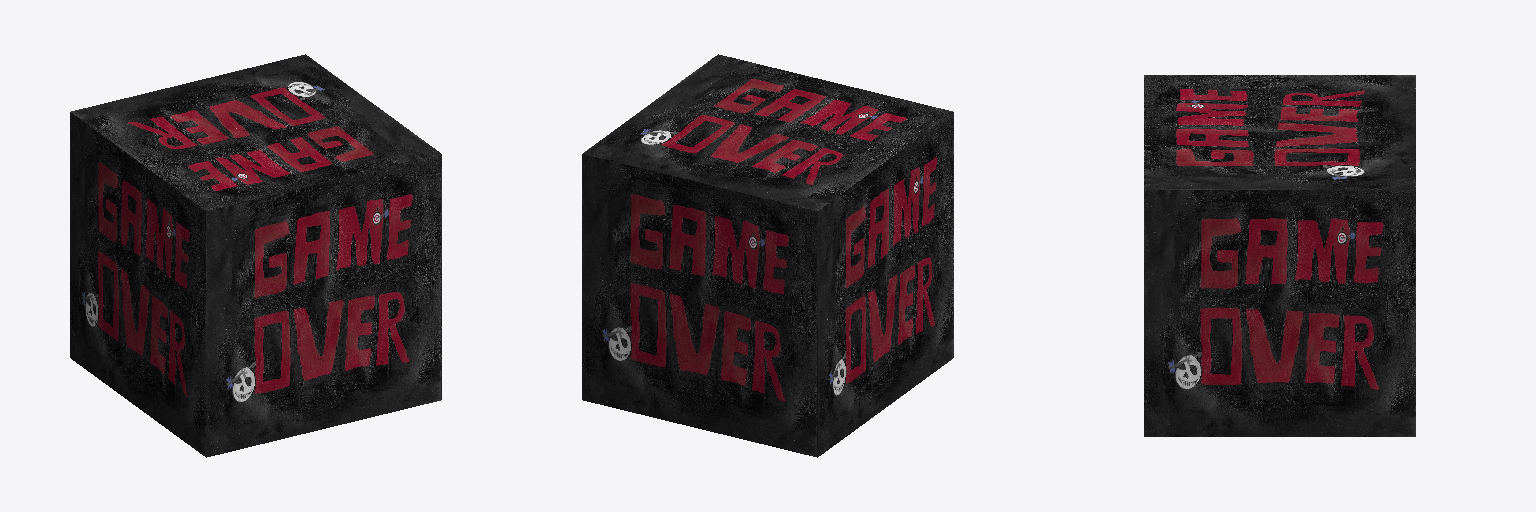
3 renders of one model, left to right at view 1: azimuth 30°, elevation 25°; view 2: azimuth 150°, elevation 25°; view 3: azimuth 270°, elevation 25°, orthographic.
Visible parts, largest first — view 1: Cube; view 2: Cube; view 3: Cube.
Part boxes in pixels (bbox=[...]): Cube: bbox=[70, 54, 441, 457]; Cube: bbox=[582, 54, 953, 457]; Cube: bbox=[1144, 75, 1415, 436].
Size of the model in its own units: 2 by 2 by 2.
Materials: 1 (1 with a texture image).